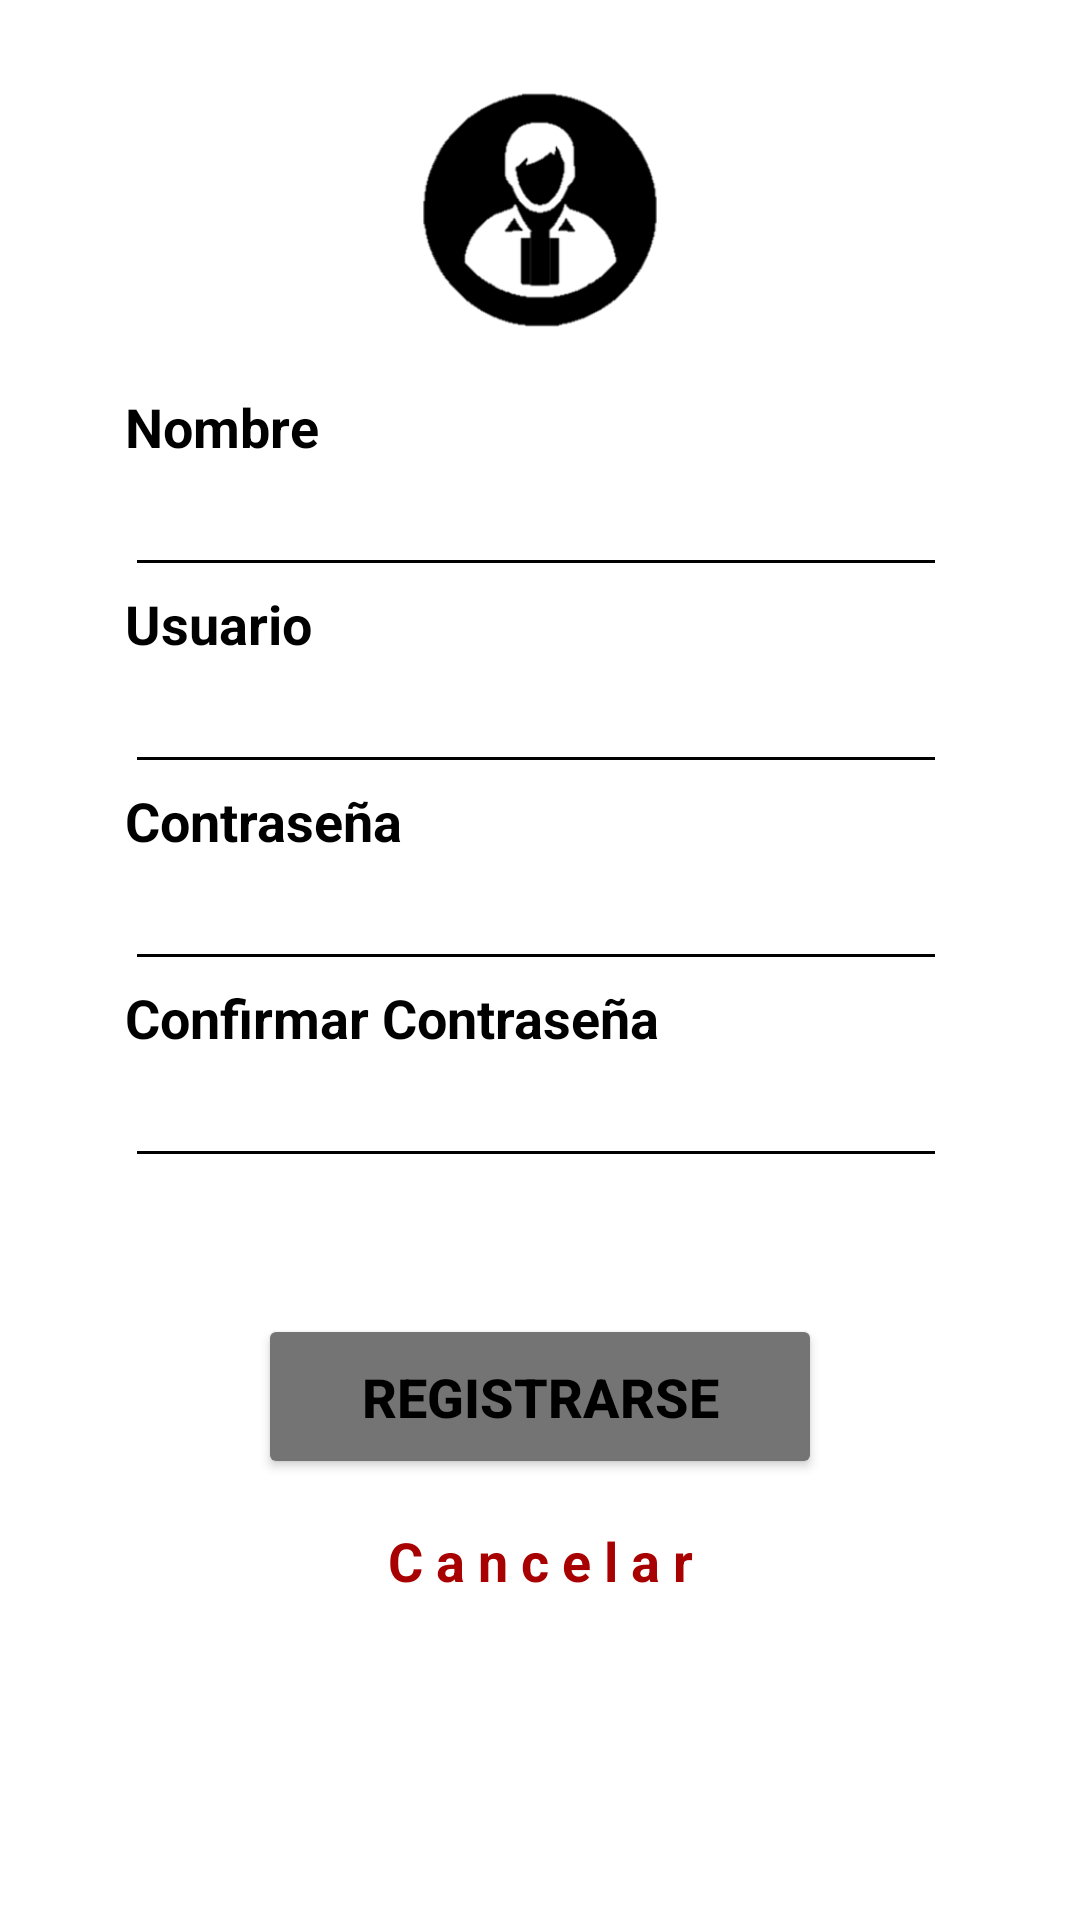

Screen size 1080w x 1920h. Icon name, then its box in pixels as (x1, y1, x2, y2):
usuario: (423, 93, 657, 327)
